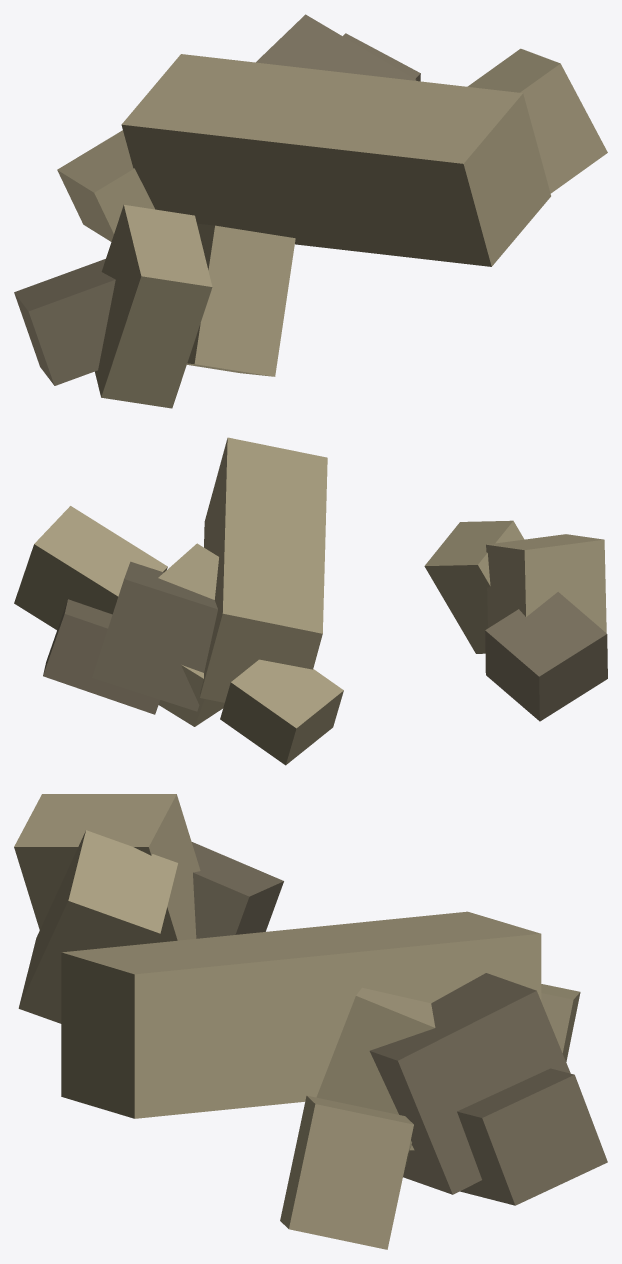
Rendered from rubble.glb.
3 views of the same model, one above another, from view 1: azimuth 30°, elevation 25°; view 2: azimuth 150°, elevation 25°; view 3: azimuth 270°, elevation 25° (orthographic). The views are drawn at different scales.
Visible parts, largest first — view 1: stone_temple-col, stone_temple_dark-col; view 2: stone_temple-col, stone_temple_dark-col; view 3: stone_temple-col, stone_temple_dark-col.
Boxes of the visible parts, x1,y1,x2,y2 form: stone_temple-col: (57,48,607,408); stone_temple_dark-col: (14,14,420,385); stone_temple-col: (14,437,606,765); stone_temple_dark-col: (43,561,607,721); stone_temple-col: (14,794,580,1249); stone_temple_dark-col: (191,842,607,1205).
Bounding box in the file's own units: 2.91 × 0.9313 × 2.03.
